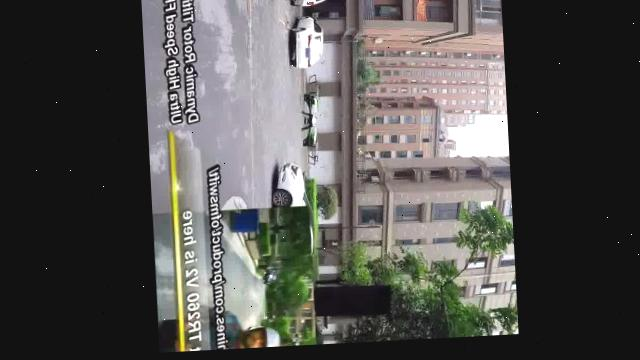drone: (294, 74, 325, 171)
